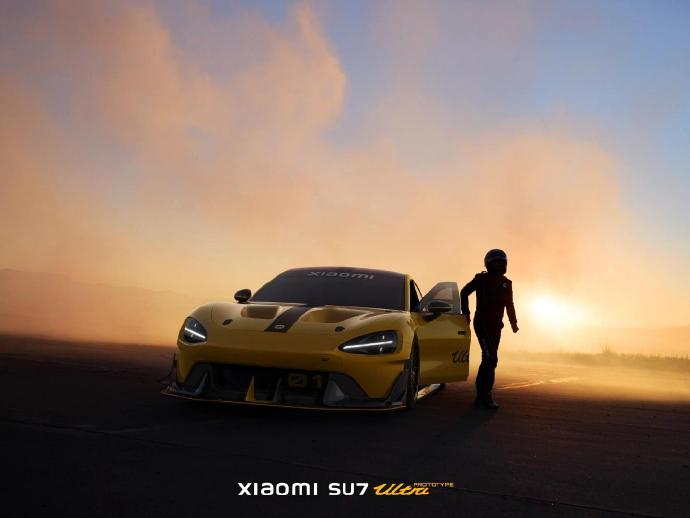su7: (164, 252, 472, 425)
